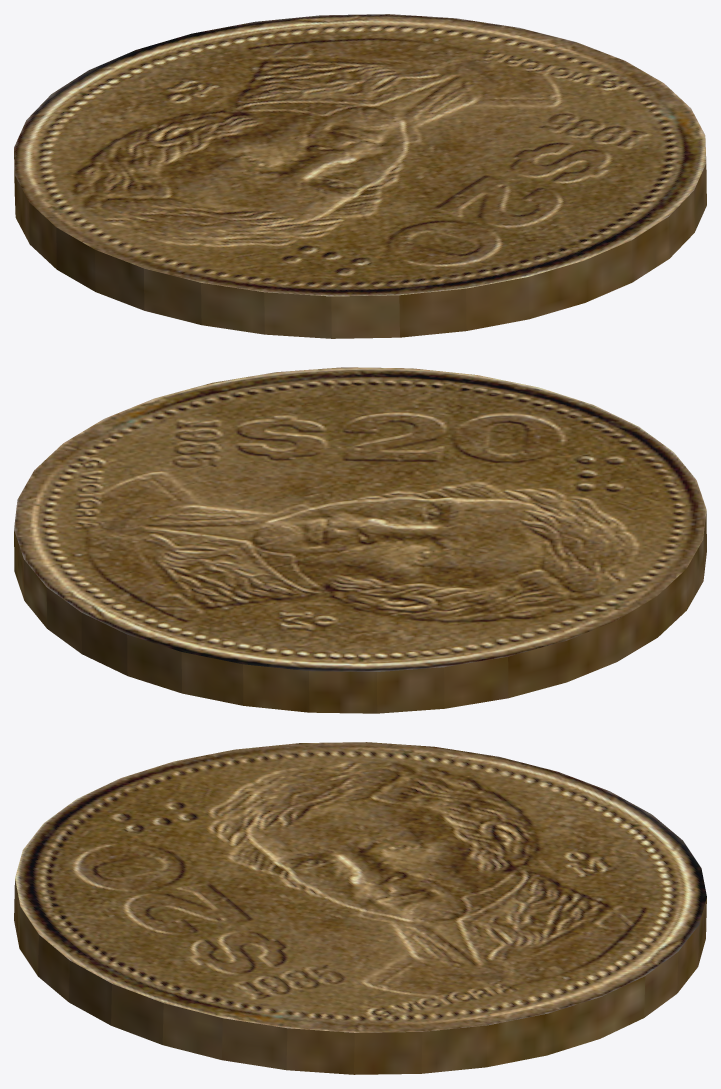
Rendered from coin.dae.
The picture shows the model from 3 angles, top to bottom: view 1: azimuth 30°, elevation 25°; view 2: azimuth 150°, elevation 25°; view 3: azimuth 270°, elevation 25°; orthographic projection.
Visible parts, largest first — view 1: Cylinder; view 2: Cylinder; view 3: Cylinder.
Boxes of the visible parts, x1,y1,x2,y2 form: Cylinder: [14, 14, 706, 338]; Cylinder: [14, 367, 706, 713]; Cylinder: [14, 742, 706, 1074].
Bounding box in the file's own units: 2 × 2 × 0.1767.
Materials: 1 (1 with a texture image).
